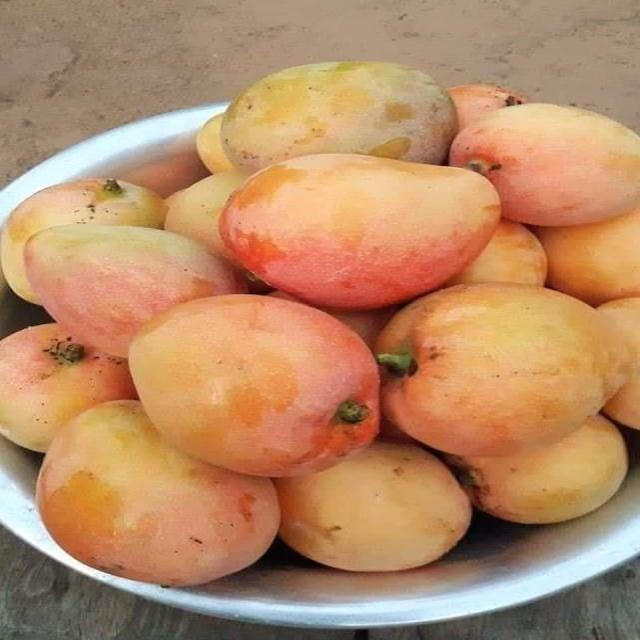mango: (37, 400, 280, 586), (130, 295, 378, 476), (374, 283, 630, 456), (219, 153, 500, 310), (23, 224, 246, 356), (219, 61, 454, 172), (274, 441, 471, 571), (449, 102, 639, 226), (0, 178, 167, 304), (445, 415, 628, 524), (0, 323, 137, 451), (534, 206, 639, 306), (165, 169, 245, 269), (444, 219, 545, 285), (598, 297, 639, 431), (121, 147, 208, 197), (448, 84, 527, 129), (197, 113, 232, 174)
